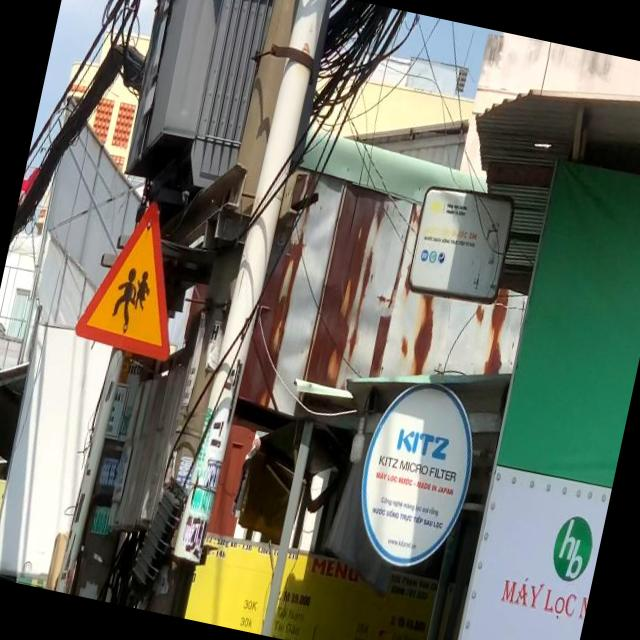W-225: (72, 190, 202, 363)
